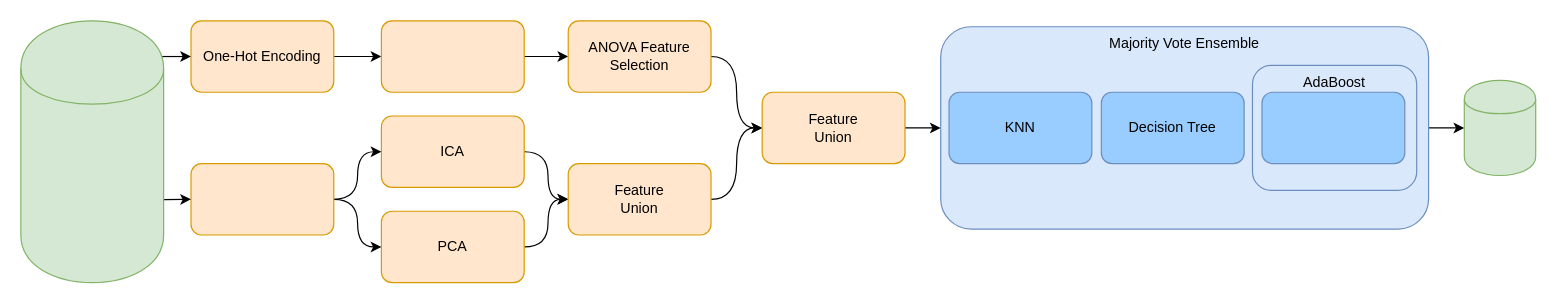
Image size: 1557x303. Some labels were removed from this diagram. The centre of each missing label's shape, as x and y in pixels:
Input Dataset: the point at 92,151
Power Transformer: the point at 262,198
Prediction: the point at 1499,127
Robust Scaler: the point at 452,56
SVM: the point at 1333,127
